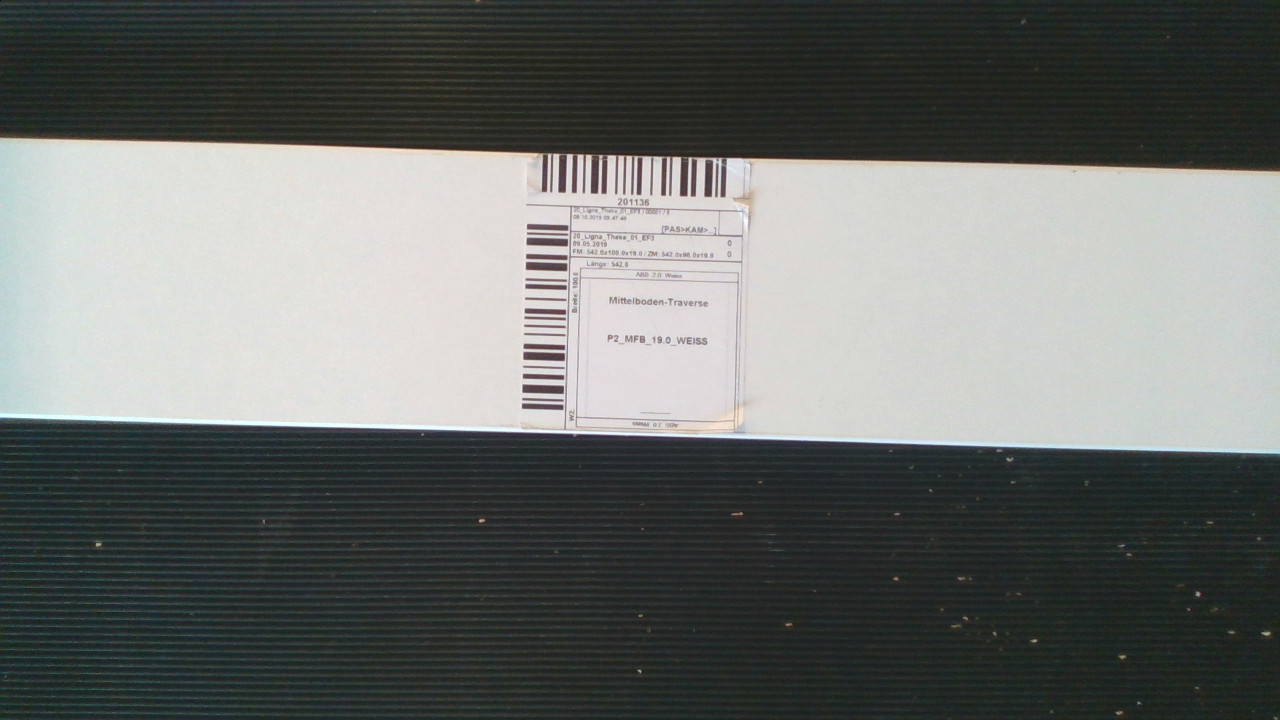barcode: (512, 141, 762, 439)
